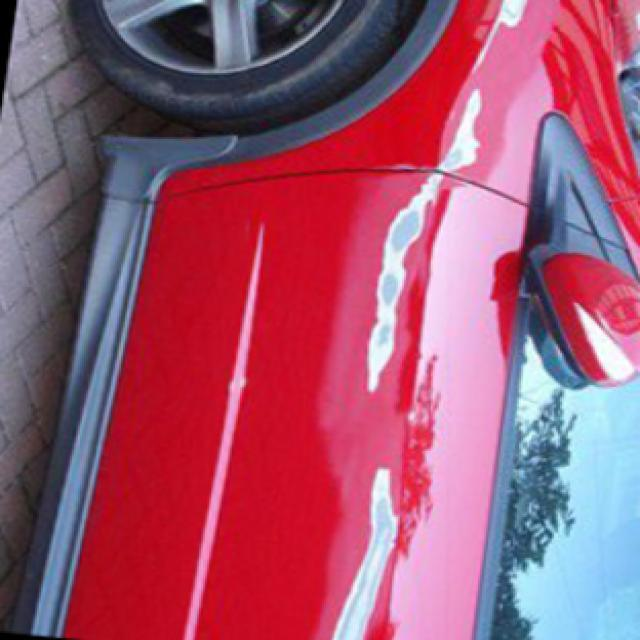scratch: (343, 92, 510, 404), (323, 456, 442, 640), (450, 0, 540, 73)
